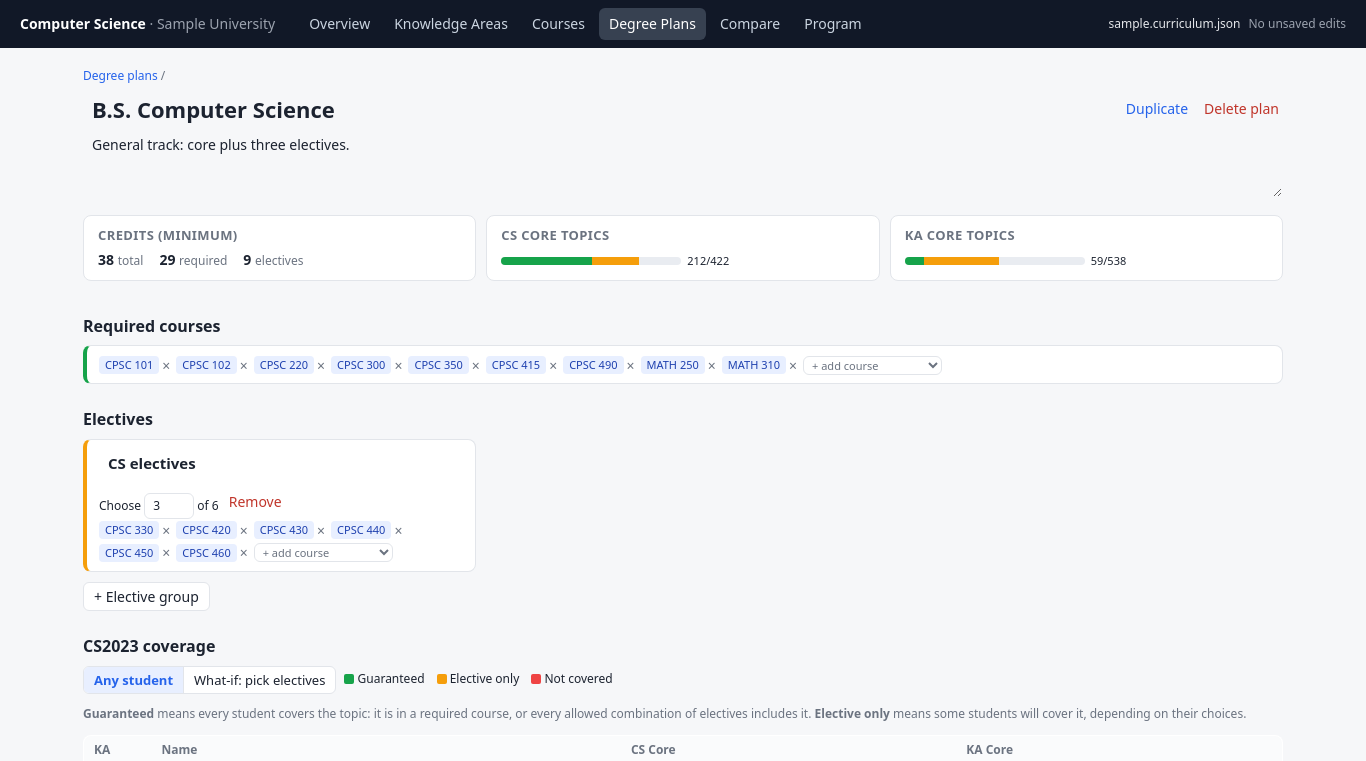
Test: every page renders with the sample program › plan detail, including what-if mode
Expected: the 1st field showing "B.S. Computer Science" is shown, left=83, top=89, right=603, bottom=130
Click the radio button "What-if: pick electives".
click(260, 680)  # box left=184, top=667, right=335, bottom=693
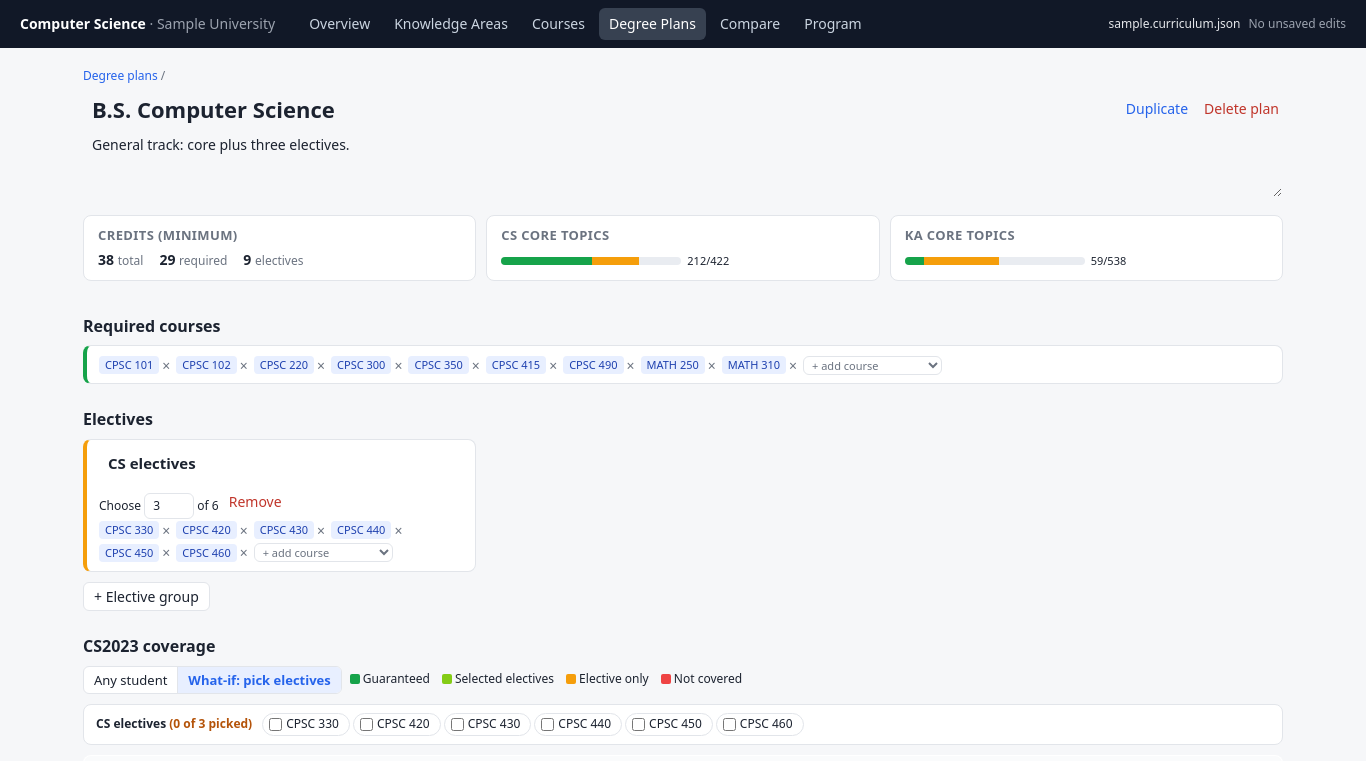
Expected: the text "(0 of 3 picked)" is shown, left=169, top=715, right=252, bottom=732
